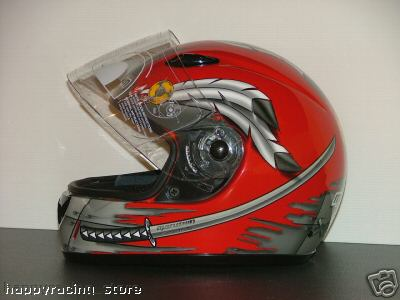helmet: (99, 44, 343, 251)
